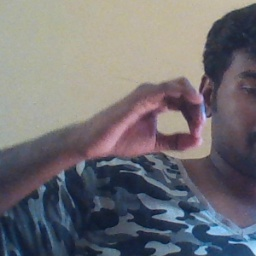O: (86, 75, 207, 161)
